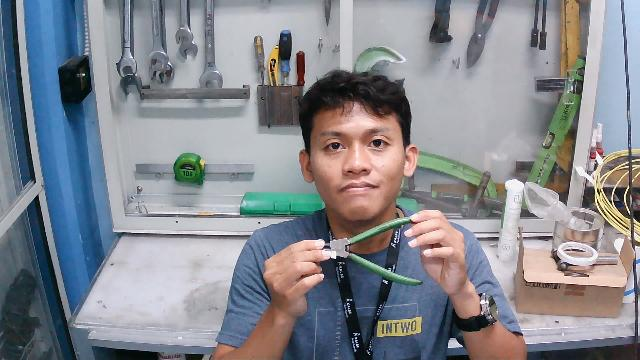tang_cucut_lancip_2: (307, 214, 432, 290)
